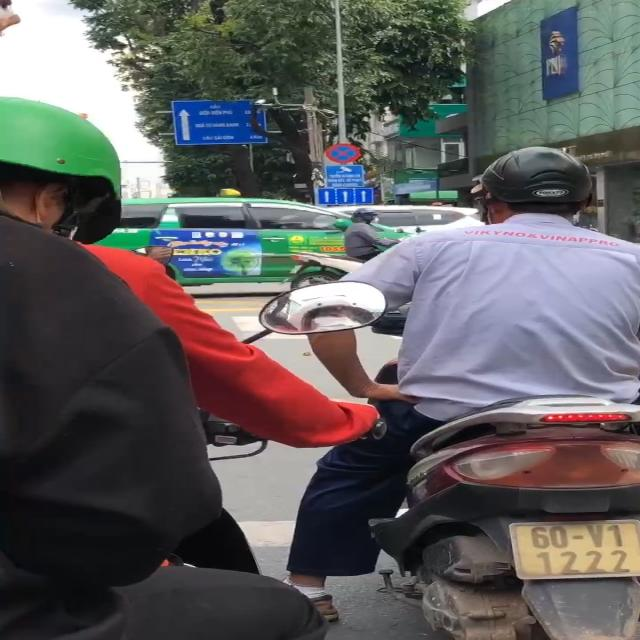Bien bao cam dung xe va do xe: (322, 140, 364, 164)
